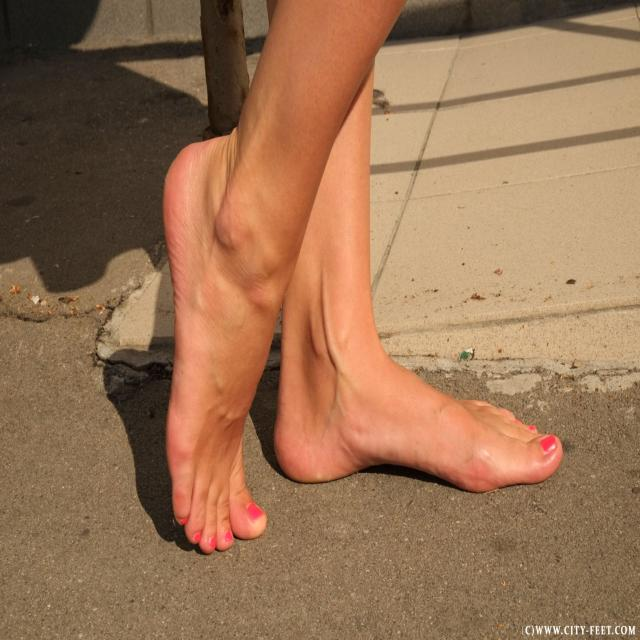Barefoots: (162, 134, 267, 554), (273, 341, 563, 493)
